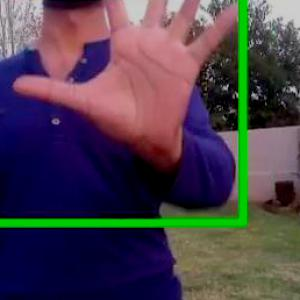follow_hand: (9, 0, 248, 160)
